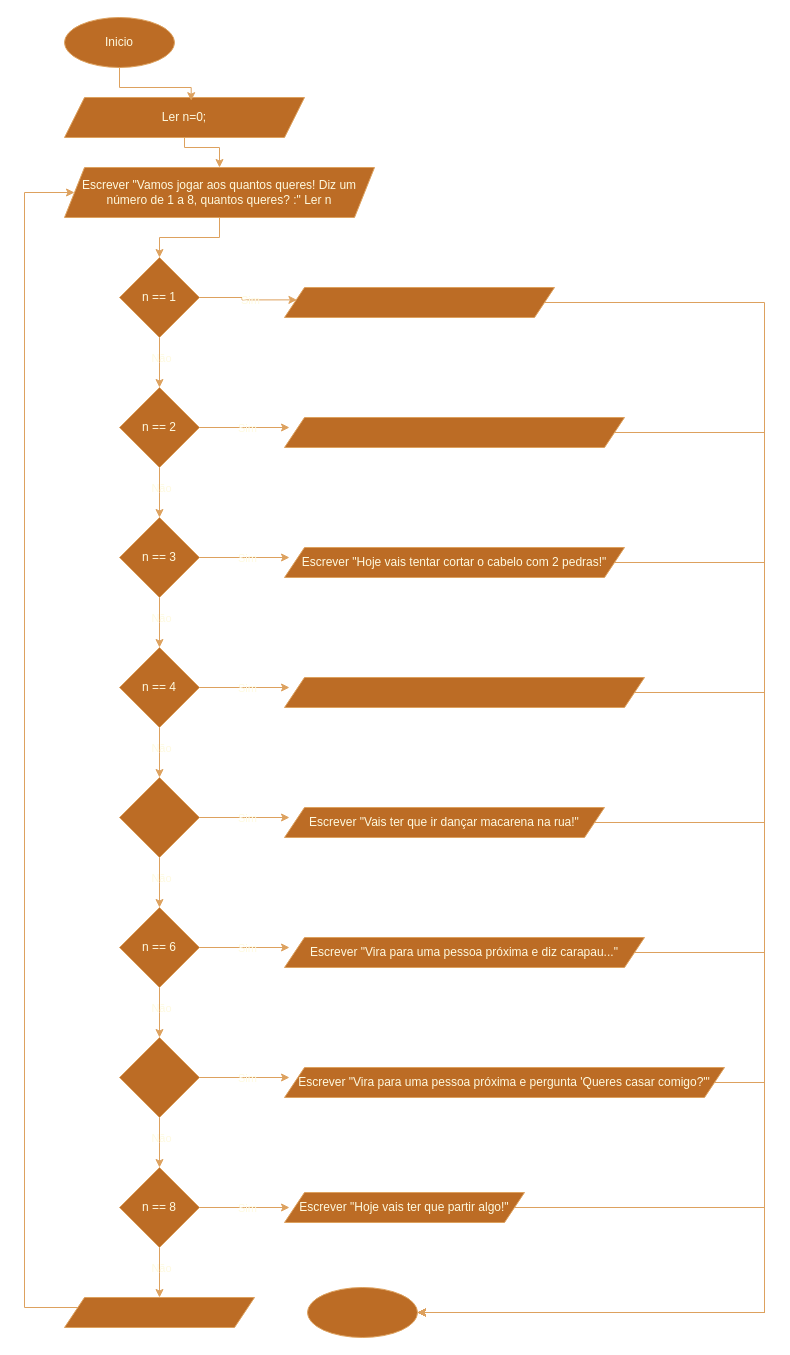
This 790x1355 diagram has some shape labels left out. The shapes that lost their labels are listed below. From the top down, each one's centre as x and y in pixels, then its label:
point 419,302: Escrever "De certeza que não puxas-te o autoclismo!"
point 454,432: Escrever "Hoje vais ter uma sorte desgraçada!"
point 464,692: Escrever "Vais ter que ir brincar com LEGO mas com os pés"
point 159,817: n == 5
point 159,1077: n == 7
point 159,1312: Escrever "Número inválido!"
point 362,1312: Fim
